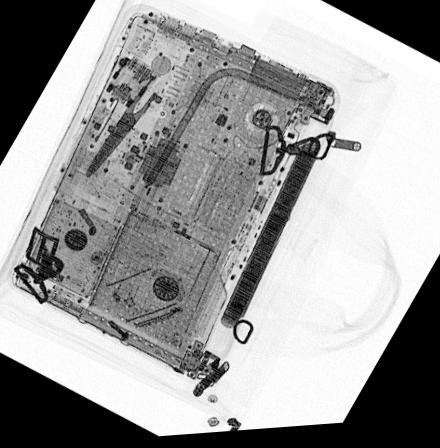Scissors: (82, 40, 203, 184)
